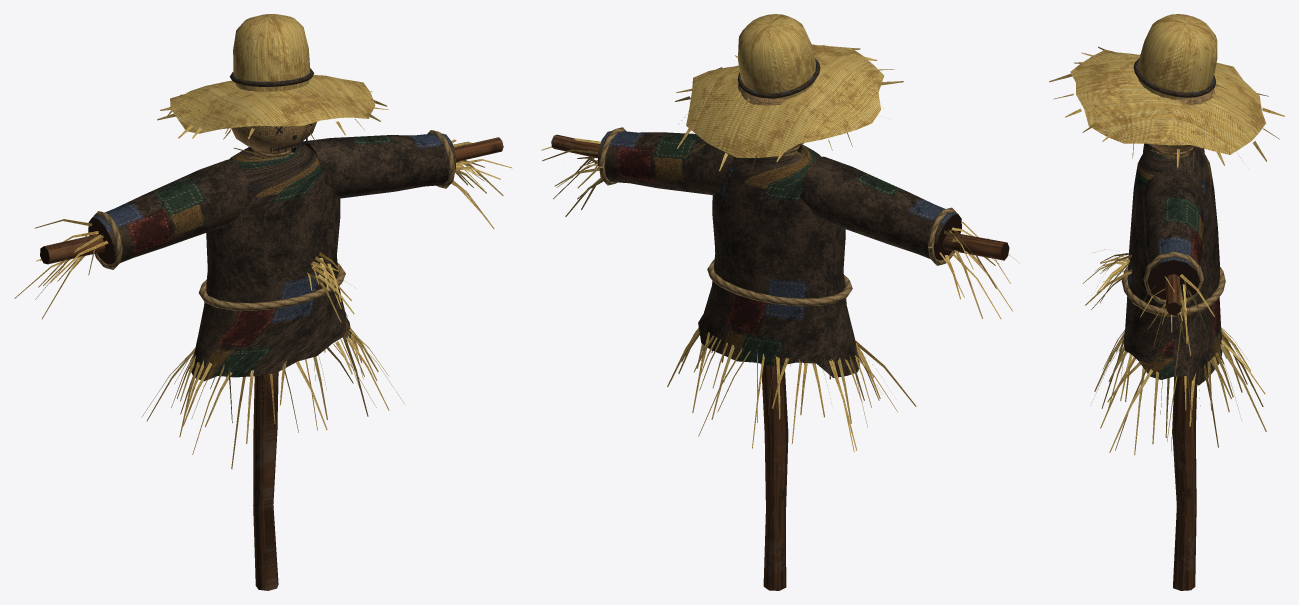
Rendered from scarecrow.glb.
The picture shows the model from 3 angles, left to right: view 1: azimuth 30°, elevation 25°; view 2: azimuth 150°, elevation 25°; view 3: azimuth 270°, elevation 25°; orthographic projection.
Visible parts, largest first — view 1: scarecrow; view 2: scarecrow; view 3: scarecrow.
Boxes of the visible parts, x1,y1,x2,y2 form: scarecrow: (14, 14, 512, 590); scarecrow: (541, 14, 1019, 590); scarecrow: (1049, 14, 1284, 590).
Bounding box in the file's own units: 1.68 × 1.92 × 0.7215.
Materials: 6 (6 with a texture image).
